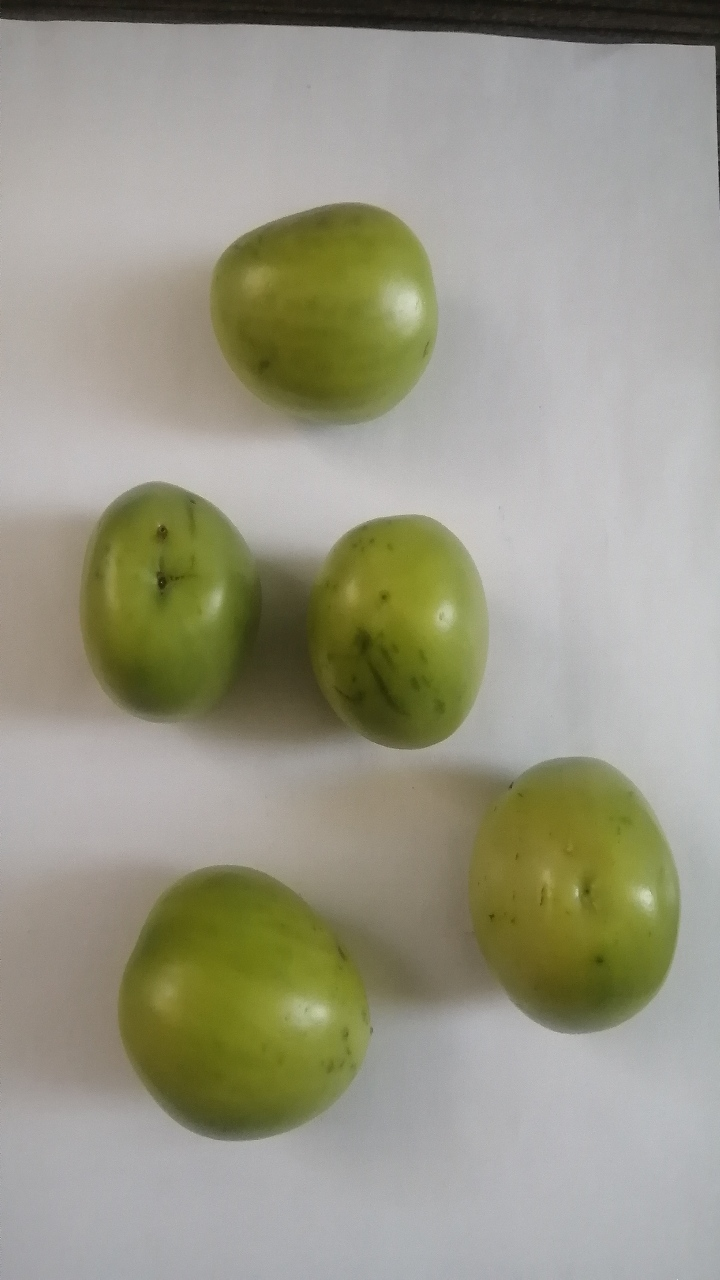tomateVerde: (97, 843, 392, 1171), (181, 180, 474, 445), (441, 739, 686, 1051), (58, 446, 288, 763), (281, 491, 506, 774)
